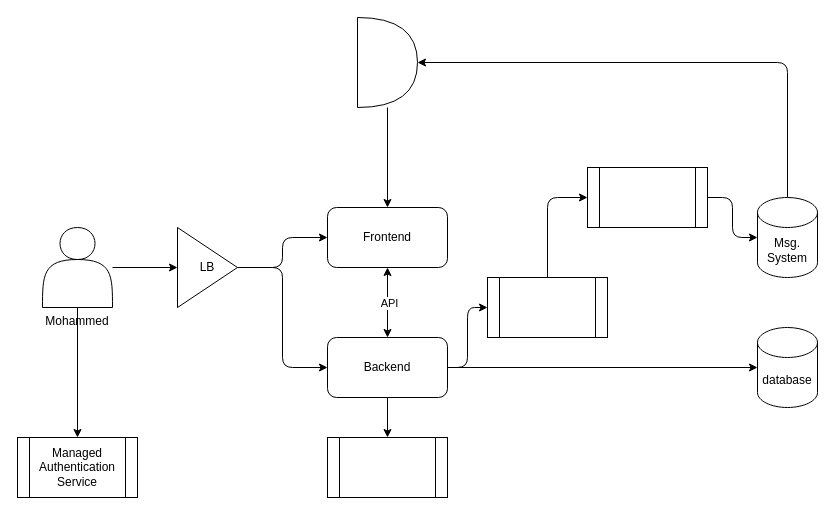
The diagram is 835 pixels wide and 515 high, and some of its shapes have lost their labels. The shapes that lost their labels are listed below. From the top down, each one's centre as x and y in pixels, then its label:
At [387,62]: "Realtime Publisher".
At [647,197]: "Timeline Service".
At [547,307]: "Cache Service".
At [387,467]: "Managed Search Service".
